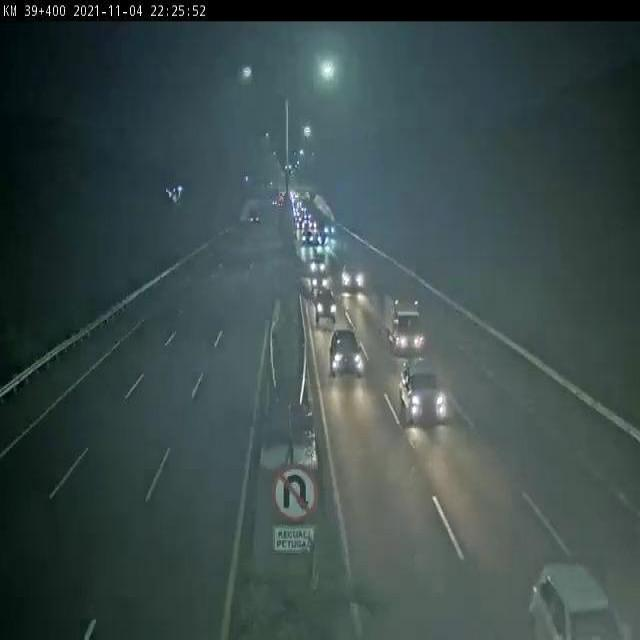car: (522, 552, 632, 640), (394, 357, 455, 428), (325, 326, 368, 378), (309, 287, 345, 324), (339, 256, 369, 289)
truck-s-: (383, 295, 433, 353)
